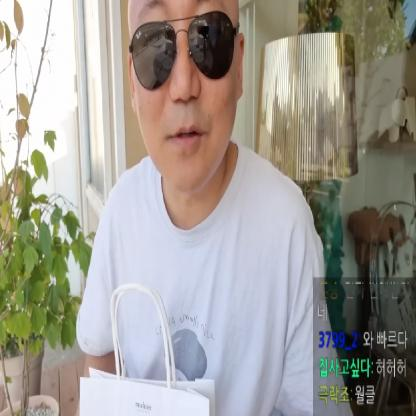streamer: (73, 0, 351, 416)
